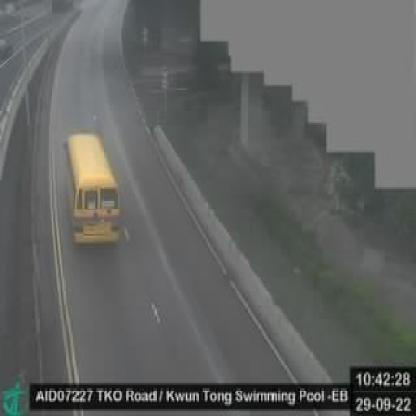Bus: (51, 125, 130, 253)
